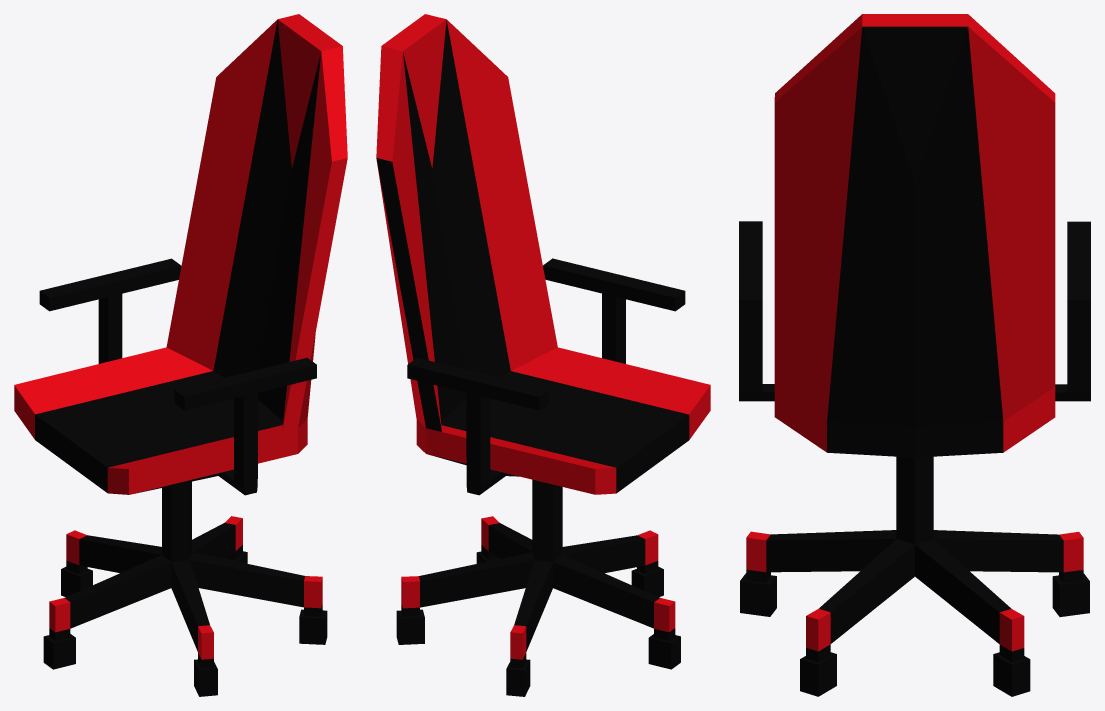
Rendered from chair game.fbx.
3 views of the same model, side by side, from view 1: azimuth 30°, elevation 25°; view 2: azimuth 150°, elevation 25°; view 3: azimuth 270°, elevation 25° (orthographic). The views are drawn at different scales.
Visible parts, largest first — view 1: chair game; view 2: chair game; view 3: chair game.
Part boxes in pixels (x1,y1,x2,y2): chair game: (14,14,347,696); chair game: (376,14,710,696); chair game: (739,14,1090,696).
Bounding box in the file's own units: 65.07 × 130 × 60.
